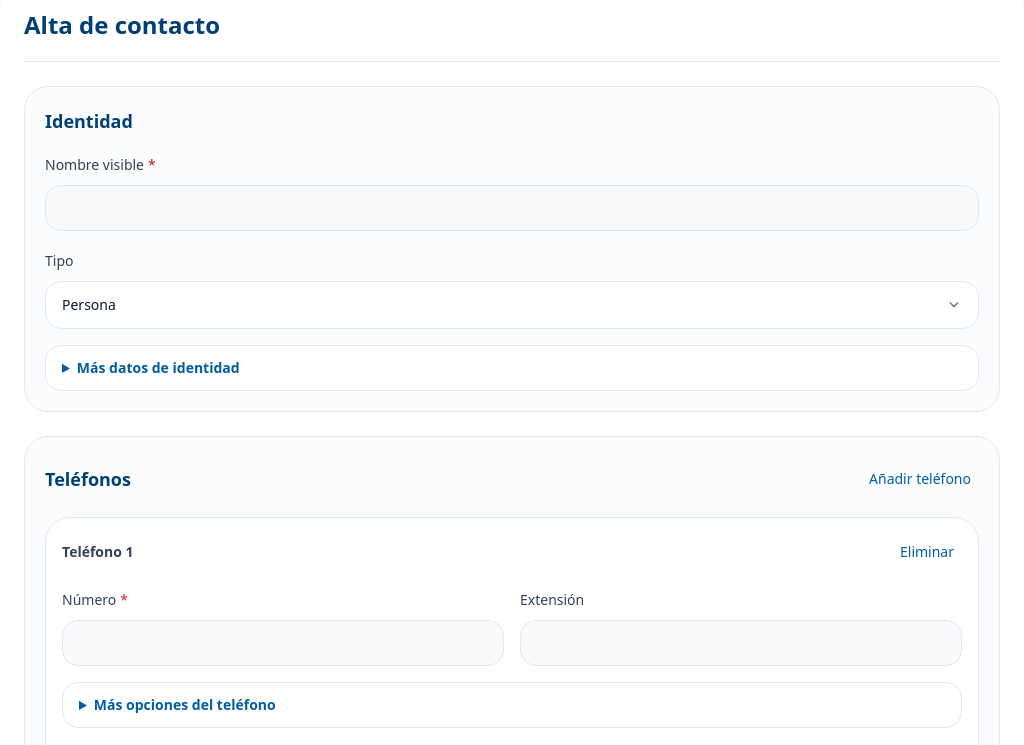
Test: RecordFormPage › shows Spanish validation feedback when the form is invalid
This screenshot has width=1024, height=745.
Expected: the heading "Alta de contacto" is shown, [24,8,220,41]
Clear the field labelled "Número*" at (283, 643), box [62,620,504,666]
(page scrolled)
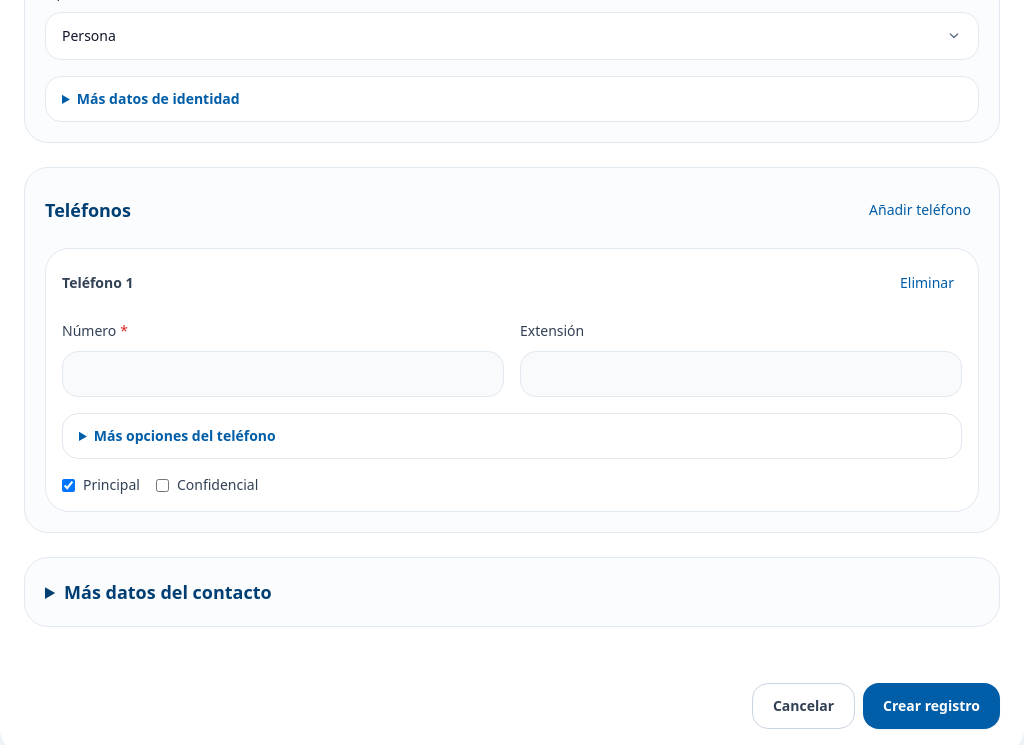
Click the button "Crear registro" at (932, 706), box [863,683,1000,729]
(page scrolled)
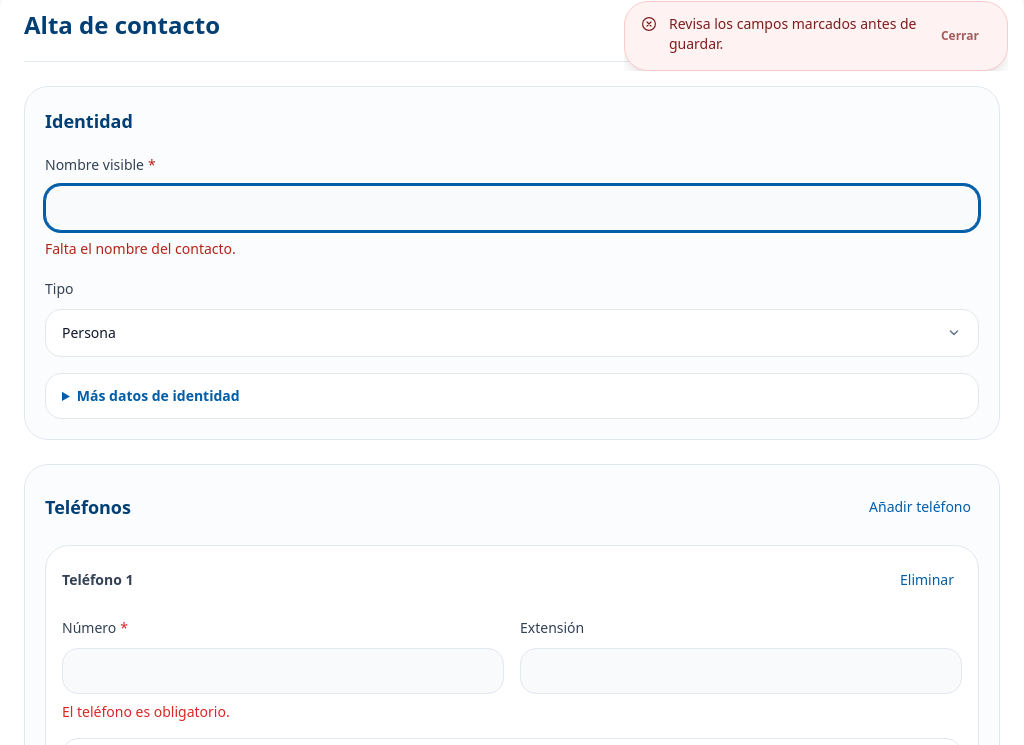
Result: the text "Revisa los campos marcados antes de guardar." is shown at [669,14,917,54]
Result: the text "Falta el nombre del contacto." is shown at [45,239,236,258]
Result: the text "El teléfono es obligatorio." is shown at [62,702,230,721]
